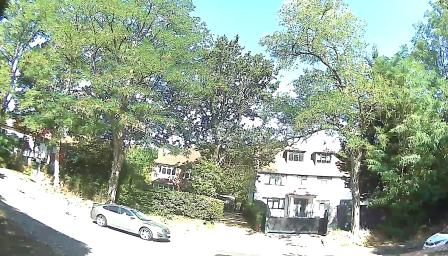Cars: (82, 178, 183, 247), (421, 214, 448, 251)
